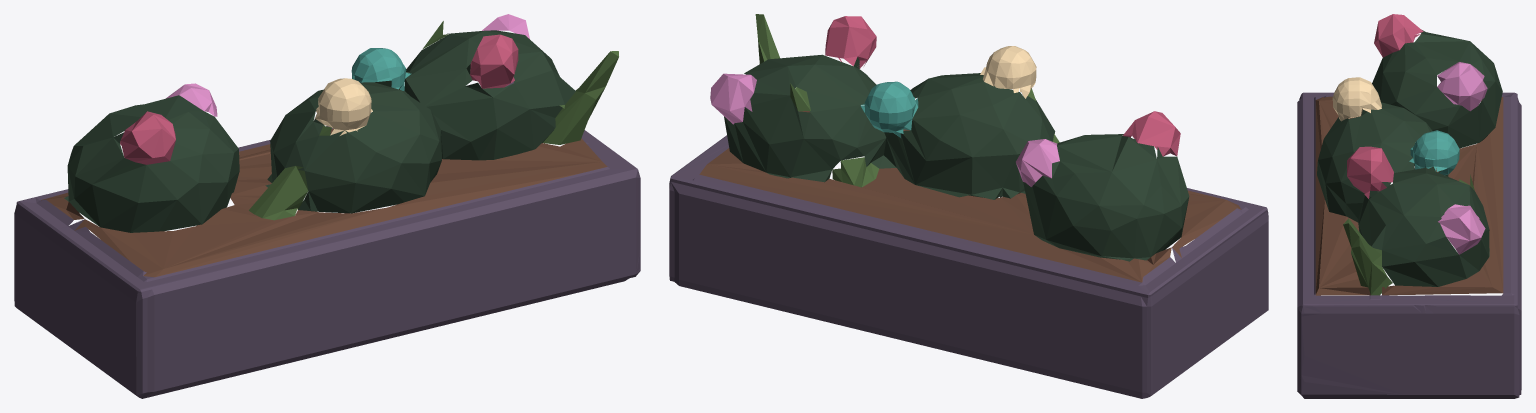
Rendered from flowerbed.glb.
The picture shows the model from 3 angles, left to right: view 1: azimuth 30°, elevation 25°; view 2: azimuth 150°, elevation 25°; view 3: azimuth 270°, elevation 25°; orthographic projection. The views are drawn at different scales.
Parts seen in each view (by area): view 1: flowerbed; view 2: flowerbed; view 3: flowerbed.
Boxes of the visible parts, x1=… form: flowerbed: x1=14, y1=14, x2=640, y2=398; flowerbed: x1=669, y1=14, x2=1268, y2=398; flowerbed: x1=1297, y1=14, x2=1521, y2=398.
Bounding box in the file's own units: 1.92 × 0.8684 × 0.84.
